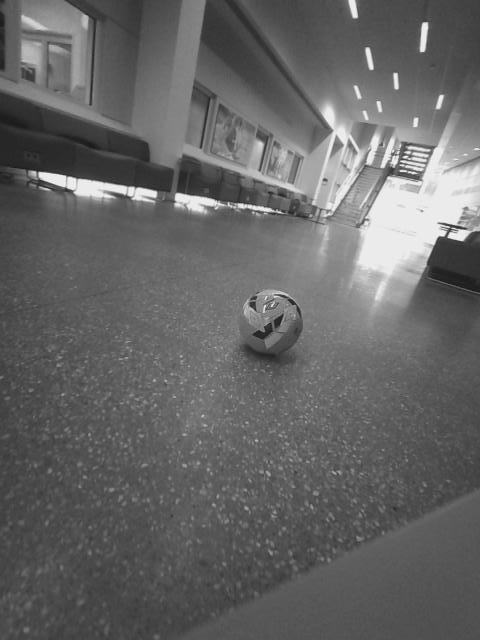ball: (234, 284, 306, 360)
